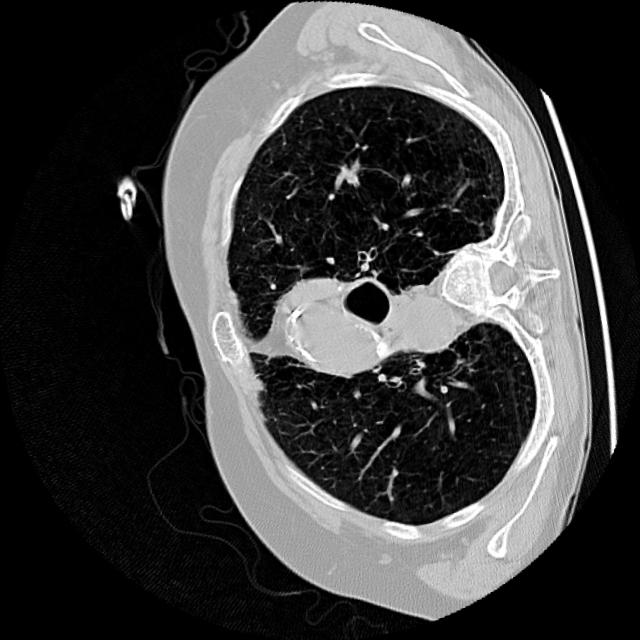nodule: (326, 150, 372, 196)
